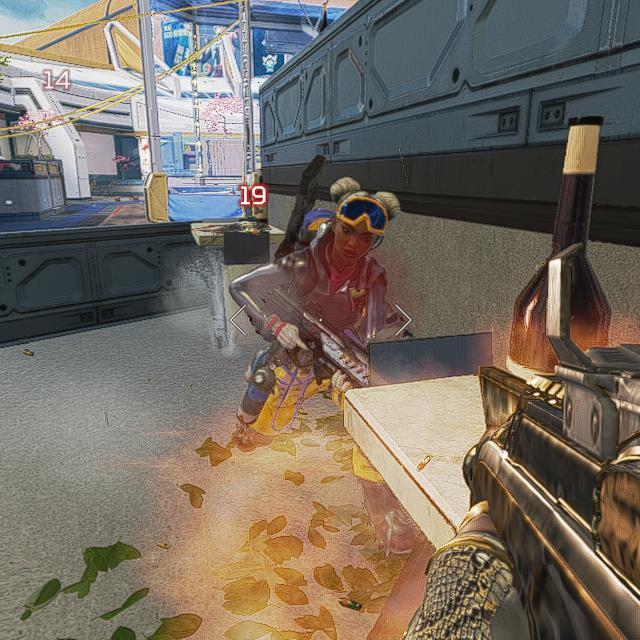avatar: (217, 176, 403, 452)
